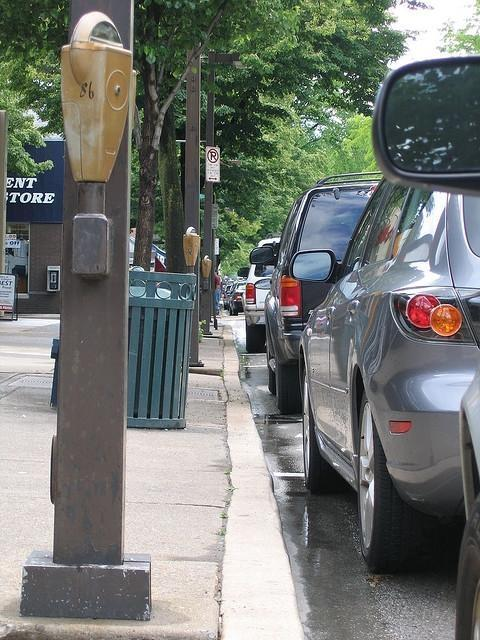car: (290, 176, 479, 573), (264, 171, 382, 416), (454, 370, 480, 640), (237, 264, 276, 352), (227, 280, 244, 316), (223, 284, 232, 310)
